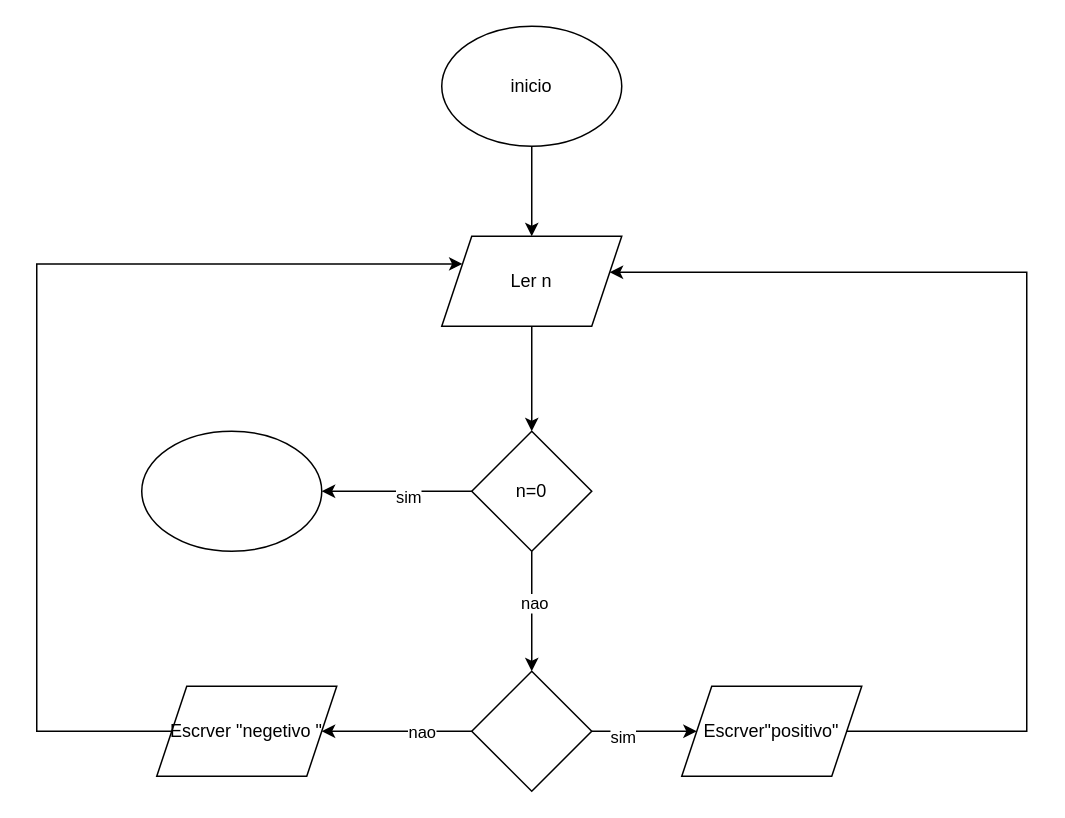
The diagram is 1065 pixels wide and 818 high, and some of its shapes have lost their labels. Here are the shapes that lost their labels. From the top down, the box of each, then its label:
(140, 430, 322, 551): fim
(470, 670, 592, 791): n<0
